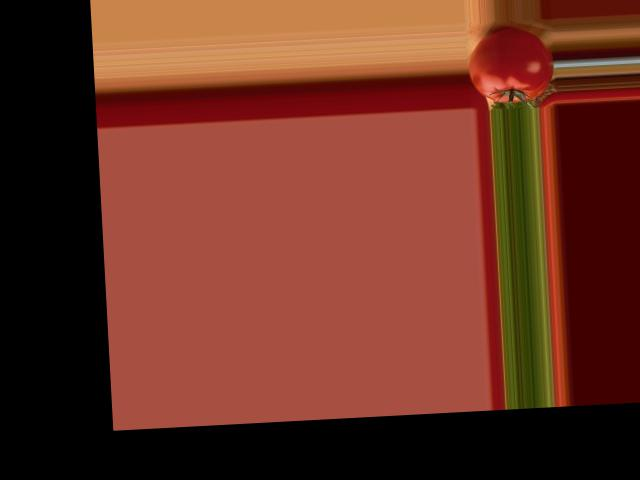tomato: (466, 27, 554, 104)
